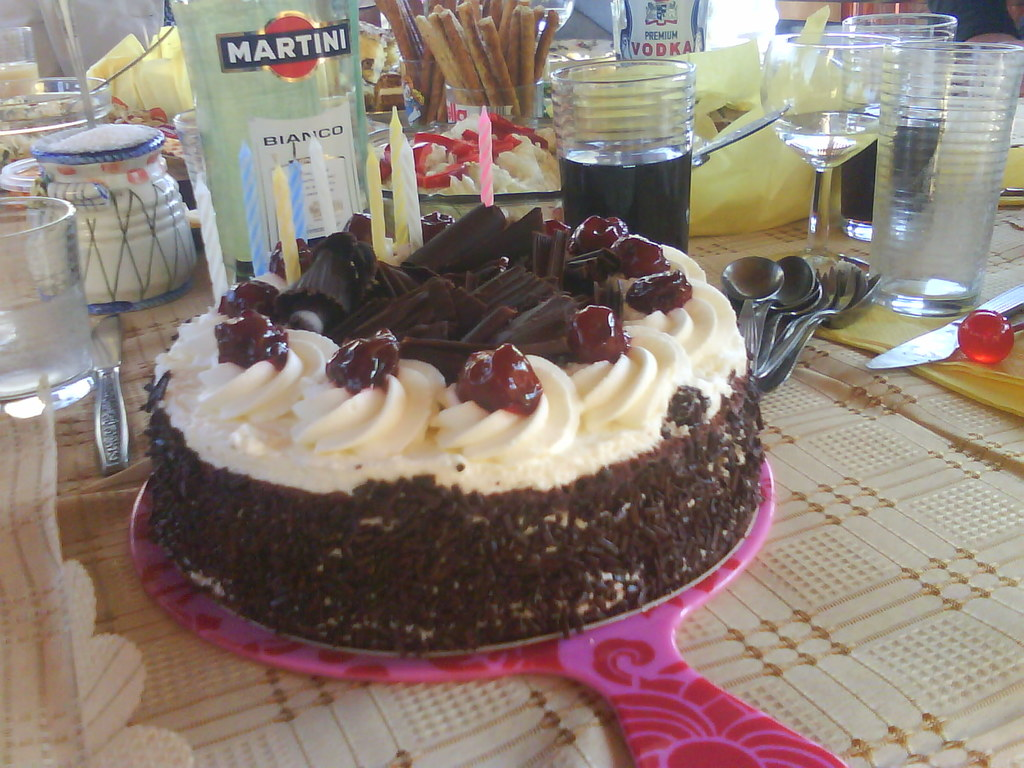cake: (147, 200, 775, 650)
